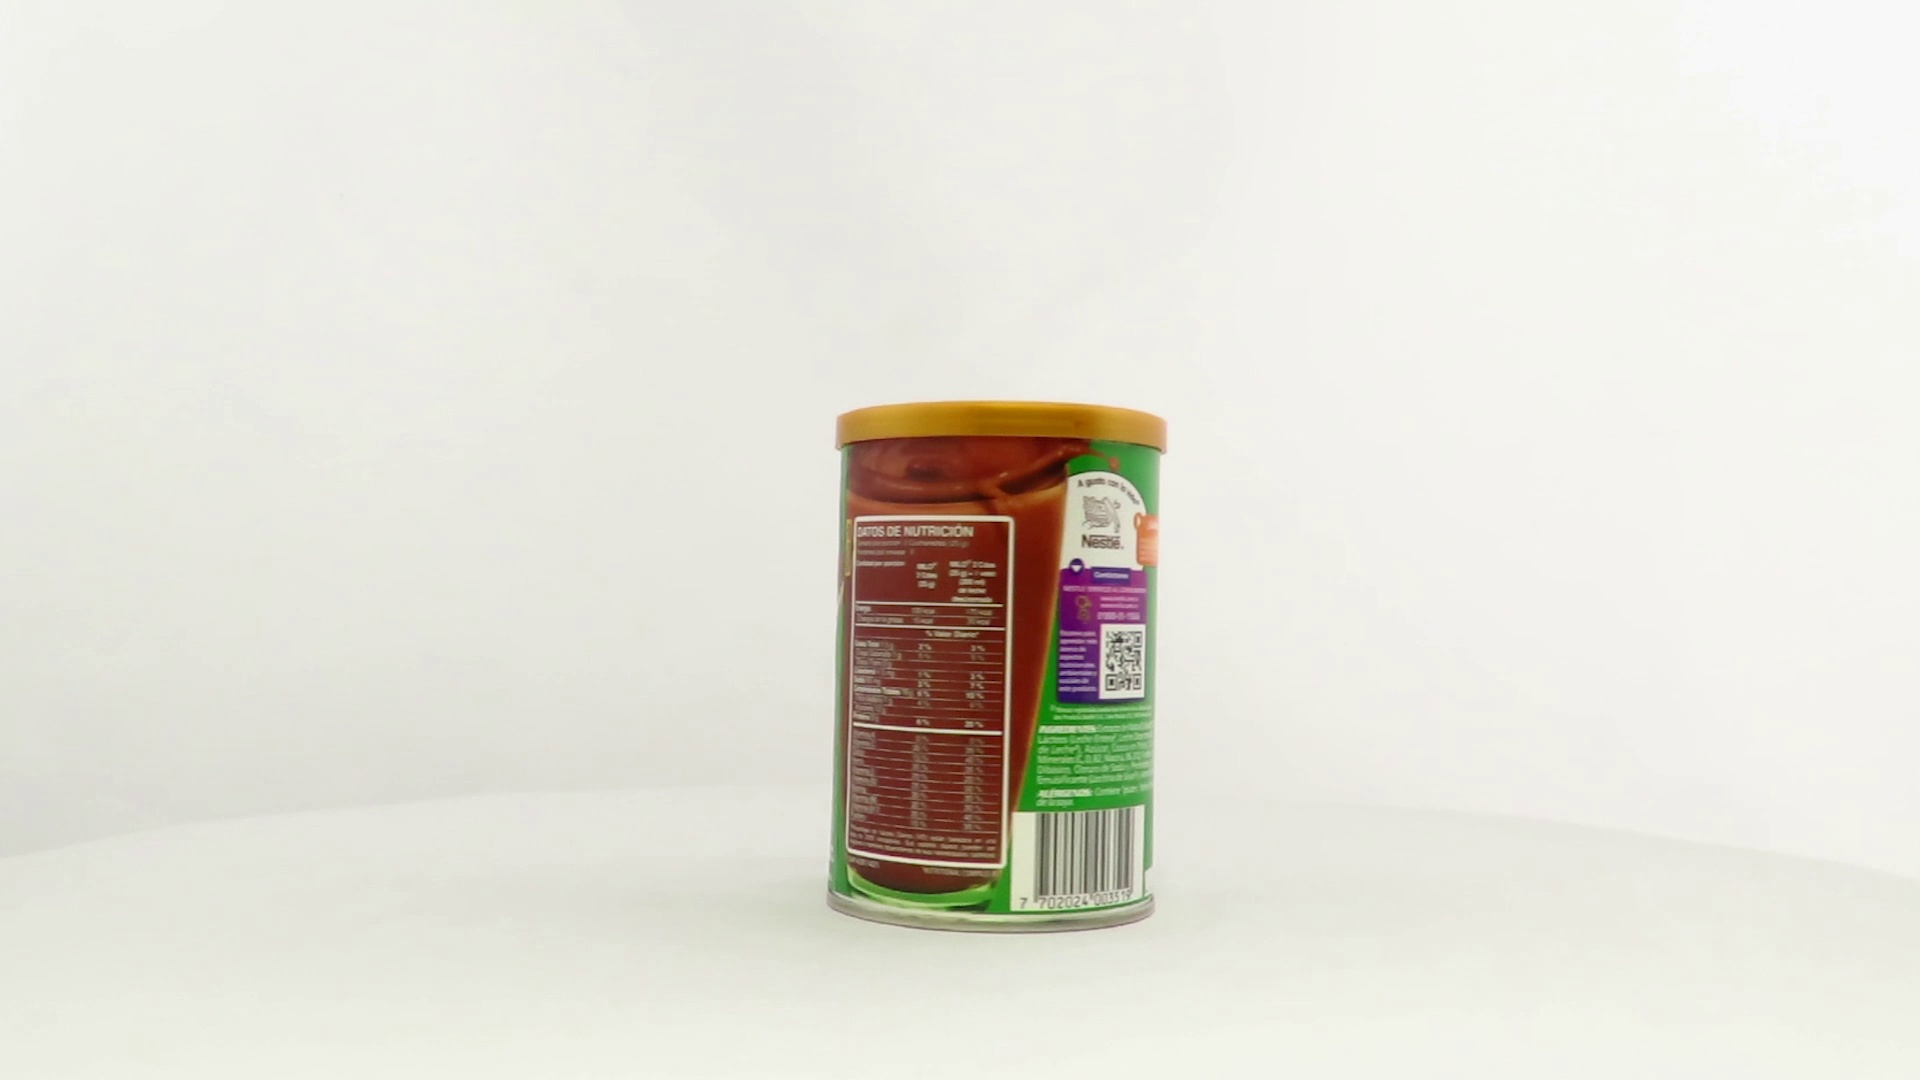COL0170203LAT20000: (822, 396, 1174, 940)
